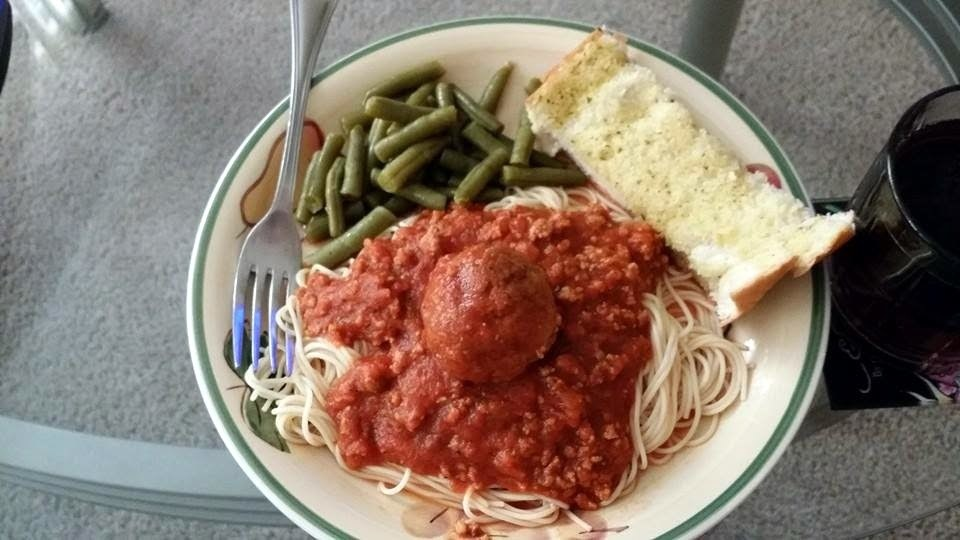background: (365, 20, 960, 450)
